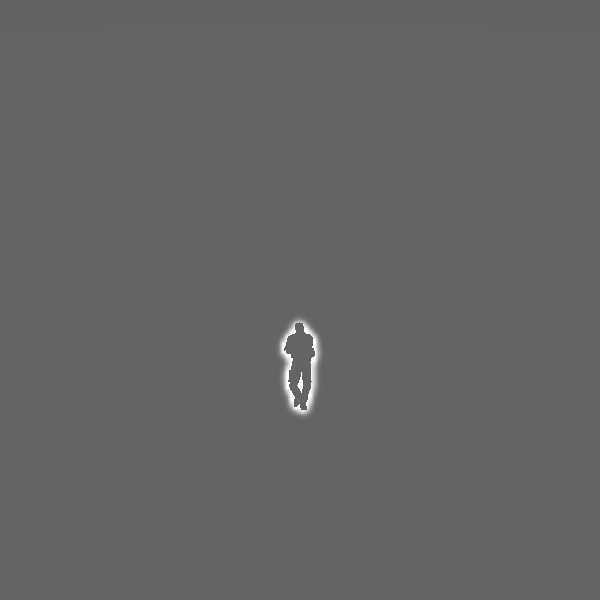t_body: (282, 322, 317, 412)
t_head: (294, 322, 305, 335)
